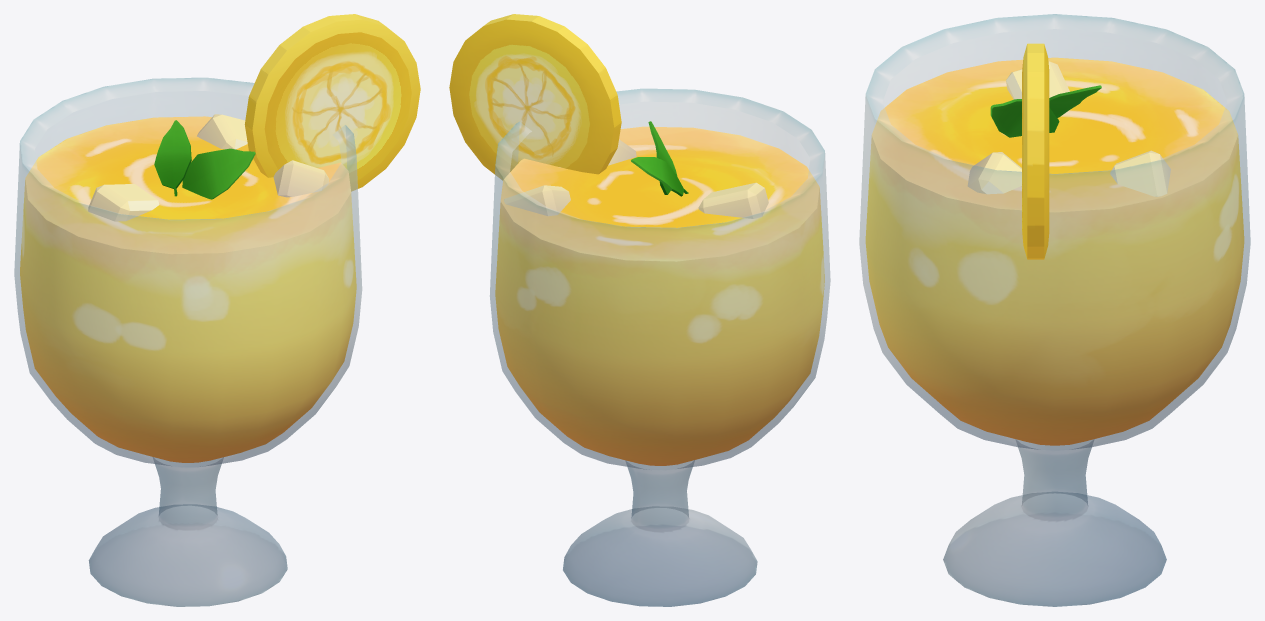
The model's file is matcha_lemonade.glb.
3 renders of one model, left to right at view 1: azimuth 30°, elevation 25°; view 2: azimuth 150°, elevation 25°; view 3: azimuth 270°, elevation 25°, orthographic. The views are drawn at different scales.
Visible parts, largest first — view 1: pCylinder2, pCylinder1, pCylinder3, polySurface1, pCube2, polySurface2, pCube3, pCube4; view 2: pCylinder2, pCylinder1, pCylinder3, pCube2, pCube4, polySurface2; view 3: pCylinder2, pCylinder1, pCylinder3, pCube4, pCube3, polySurface1, pCube2, polySurface2.
Boxes of the visible parts, box(x1,y1,x2,y2) form: pCylinder2: box(14, 77, 362, 606); pCylinder1: box(20, 116, 356, 462); pCylinder3: box(244, 14, 420, 191); polySurface1: box(182, 148, 255, 199); pCube2: box(88, 184, 159, 221); polySurface2: box(154, 120, 191, 196); pCube3: box(273, 160, 329, 197); pCube4: box(197, 114, 247, 149); pCylinder2: box(490, 88, 830, 606); pCylinder1: box(495, 126, 824, 465); pCylinder3: box(449, 14, 621, 180); pCube2: box(698, 182, 768, 218); pCube4: box(504, 185, 570, 216); polySurface2: box(631, 157, 688, 196); pCylinder2: box(859, 14, 1250, 606); pCylinder1: box(865, 57, 1244, 445); pCylinder3: box(1022, 43, 1049, 259); pCube4: box(1110, 150, 1170, 196); pCube3: box(967, 152, 1021, 194); polySurface1: box(990, 99, 1059, 137); pCube2: box(1006, 61, 1069, 99); polySurface2: box(1049, 85, 1101, 117).
Bounding box in the file's own units: 1.95 × 2.61 × 1.59.
5 materials, 5 textured.
